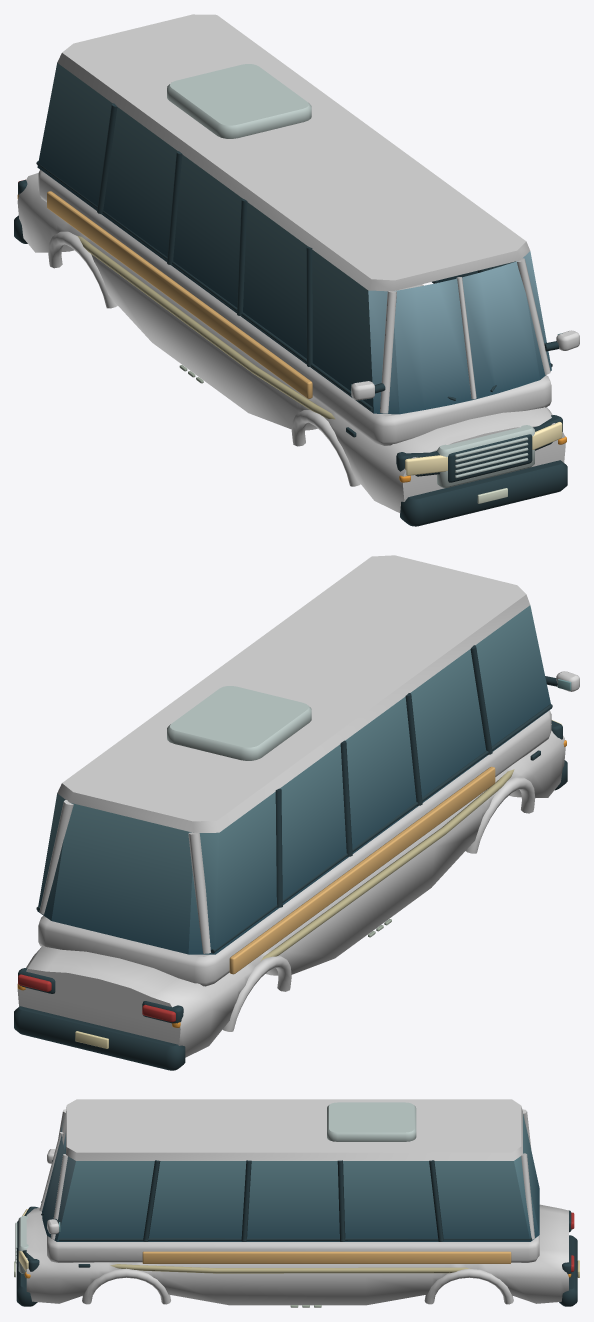
The model's file is horizon.glb.
3 renders of one model, top to bottom at view 1: azimuth 30°, elevation 25°; view 2: azimuth 150°, elevation 25°; view 3: azimuth 270°, elevation 25°, orthographic. The views are drawn at different scales.
Visible parts, largest first — view 1: Chassis, Headlamps; view 2: Chassis, BrakeLamps; view 3: Chassis.
Boxes of the visible parts, <box> form: Chassis: <box>14,14,579,526</box>; Headlamps: <box>405,422,562,475</box>; Chassis: <box>14,555,579,1070</box>; BrakeLamps: <box>18,974,175,1022</box>; Chassis: <box>14,1099,579,1307</box>.
Size of the model in its own units: 2.22 by 2.17 by 6.84.
